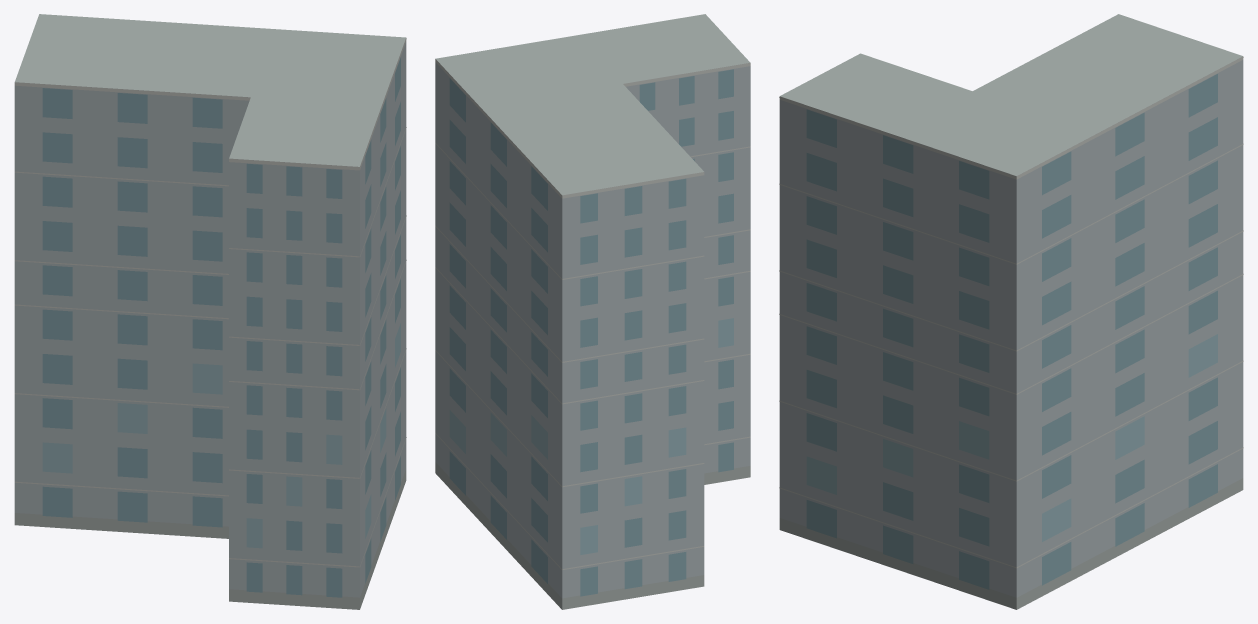
Rendered from residential-84bbc422-f980-4eea-a0d9-f17b40afcaa0.glb.
3 renders of one model, left to right at view 1: azimuth 30°, elevation 25°; view 2: azimuth 150°, elevation 25°; view 3: azimuth 270°, elevation 25°, orthographic. The views are drawn at different scales.
Visible parts, largest first — view 1: residential-84bbc422-f980-4eea-a0d9-f17b40afcaa0.tmp; view 2: residential-84bbc422-f980-4eea-a0d9-f17b40afcaa0.tmp; view 3: residential-84bbc422-f980-4eea-a0d9-f17b40afcaa0.tmp.
Boxes of the visible parts, box(x1,y1,x2,y2) form: residential-84bbc422-f980-4eea-a0d9-f17b40afcaa0.tmp: box(14, 14, 406, 609); residential-84bbc422-f980-4eea-a0d9-f17b40afcaa0.tmp: box(435, 14, 750, 609); residential-84bbc422-f980-4eea-a0d9-f17b40afcaa0.tmp: box(779, 14, 1243, 609).
Size of the model in its own units: 24.48 by 30.5 by 29.58.
